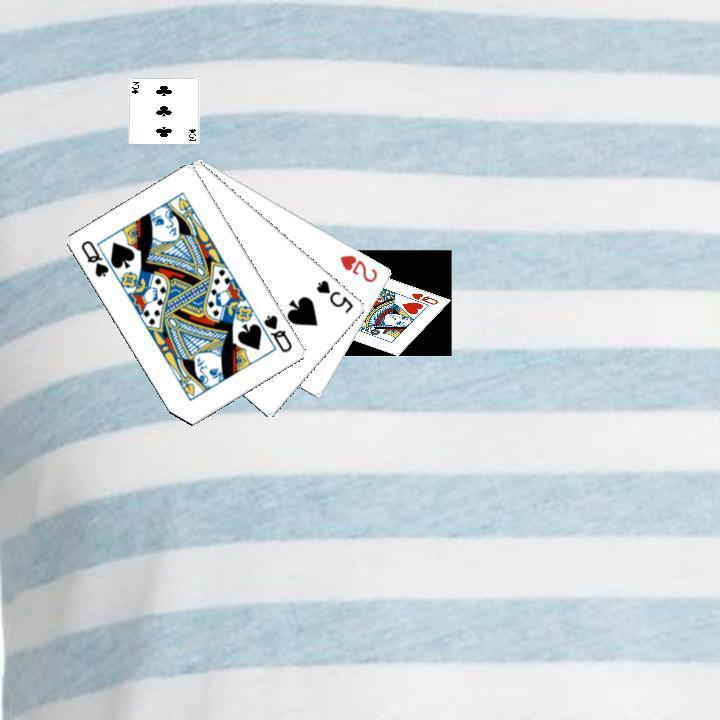2: (336, 250, 380, 285)
5: (312, 275, 356, 315)
Q: (259, 310, 294, 355), (77, 236, 111, 279)
